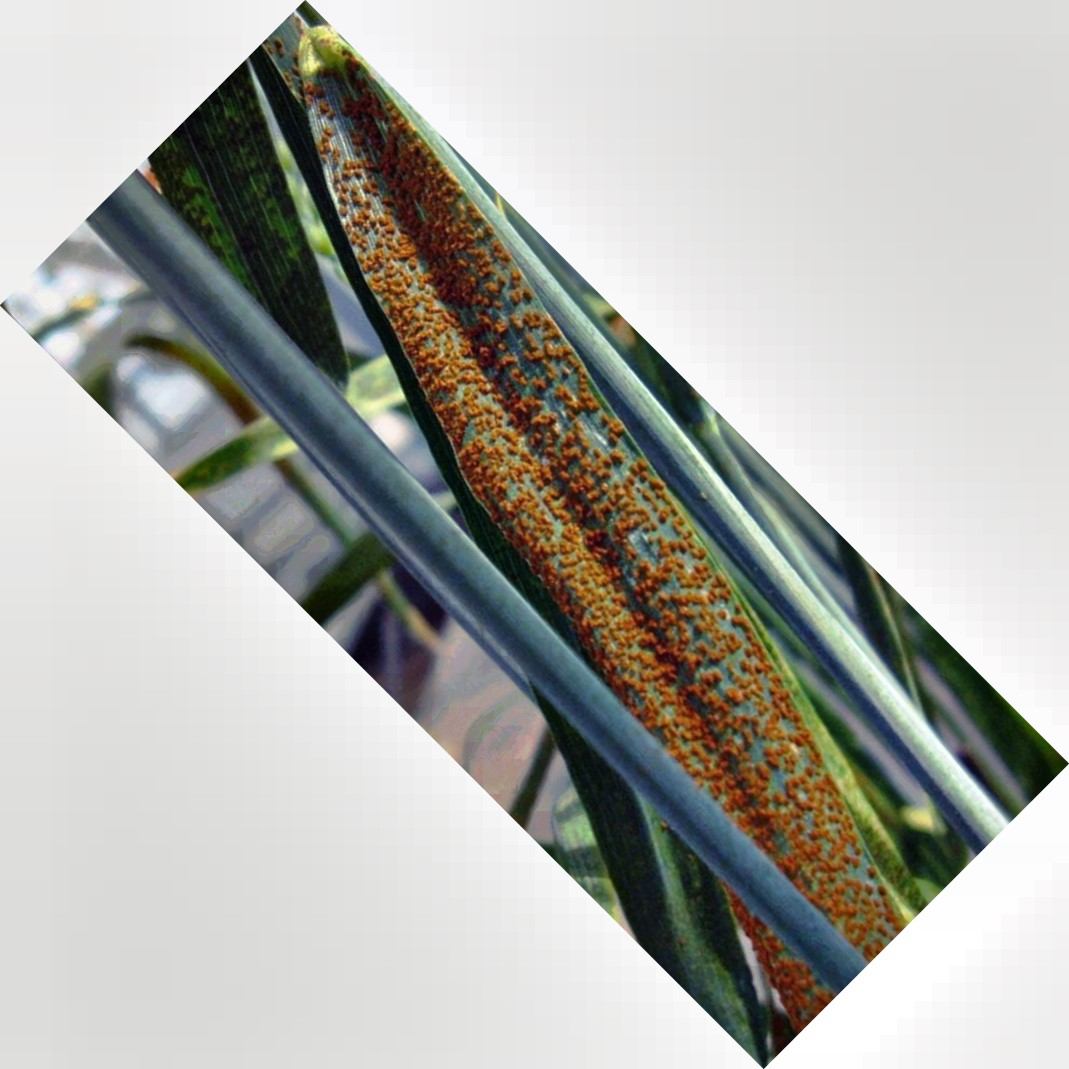Leaf Rust: (365, 192, 883, 909)
